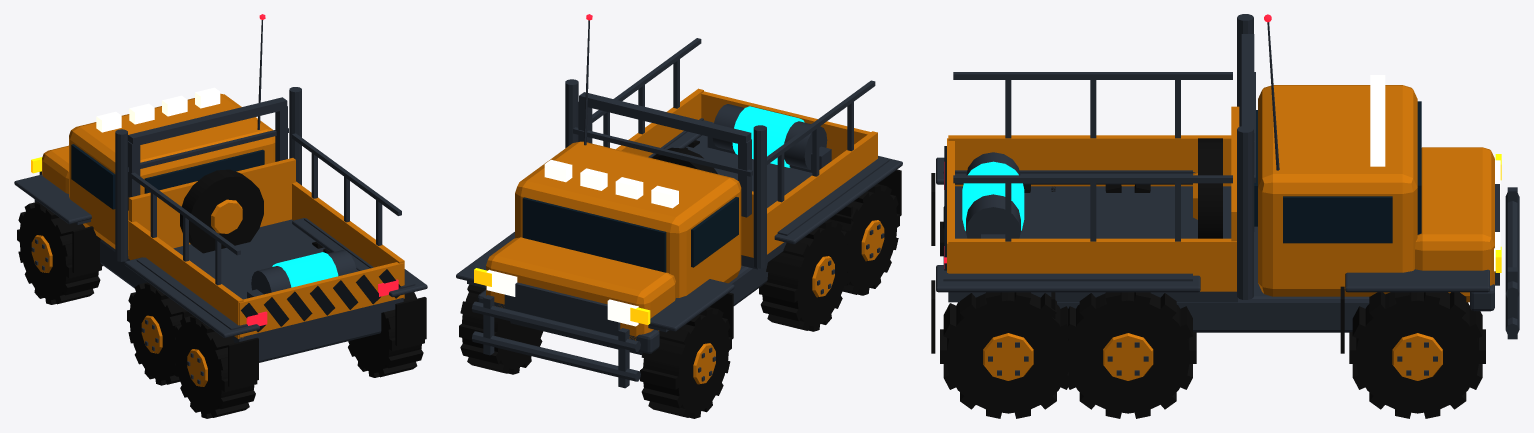
The model's file is truck.glb.
3 views of the same model, side by side, from view 1: azimuth 30°, elevation 25°; view 2: azimuth 150°, elevation 25°; view 3: azimuth 270°, elevation 25° (orthographic). The views are drawn at different scales.
Visible parts, largest first — view 1: Truck; view 2: Truck; view 3: Truck.
Boxes of the visible parts, box(x1,y1,x2,y2) form: Truck: box(14, 14, 427, 418); Truck: box(456, 14, 902, 418); Truck: box(931, 14, 1519, 418).
Size of the model in its own units: 6.32 by 8.41 by 11.78.
